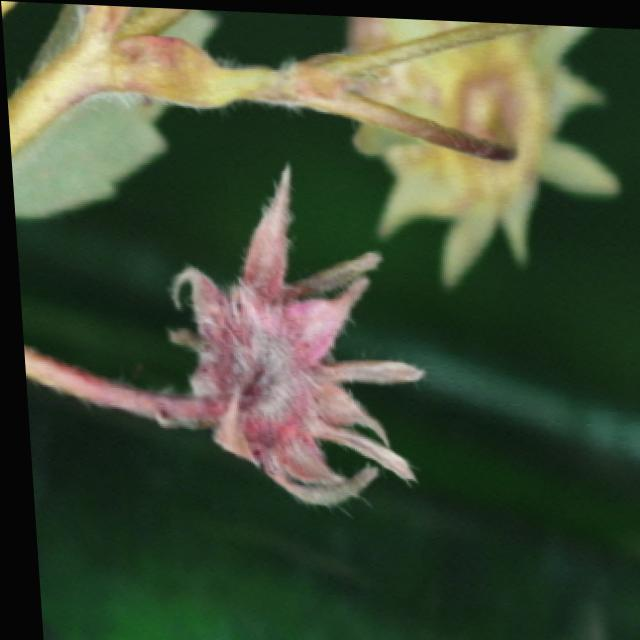Gray Mold: (144, 155, 420, 505)
